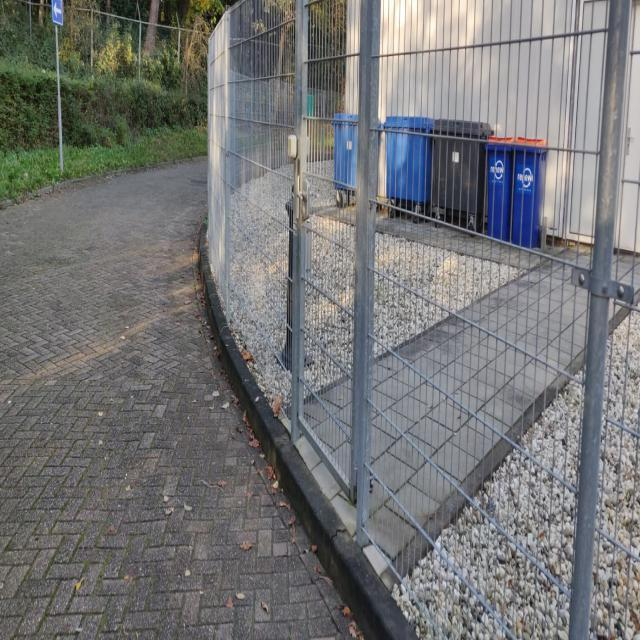fence line: (202, 2, 640, 639)
